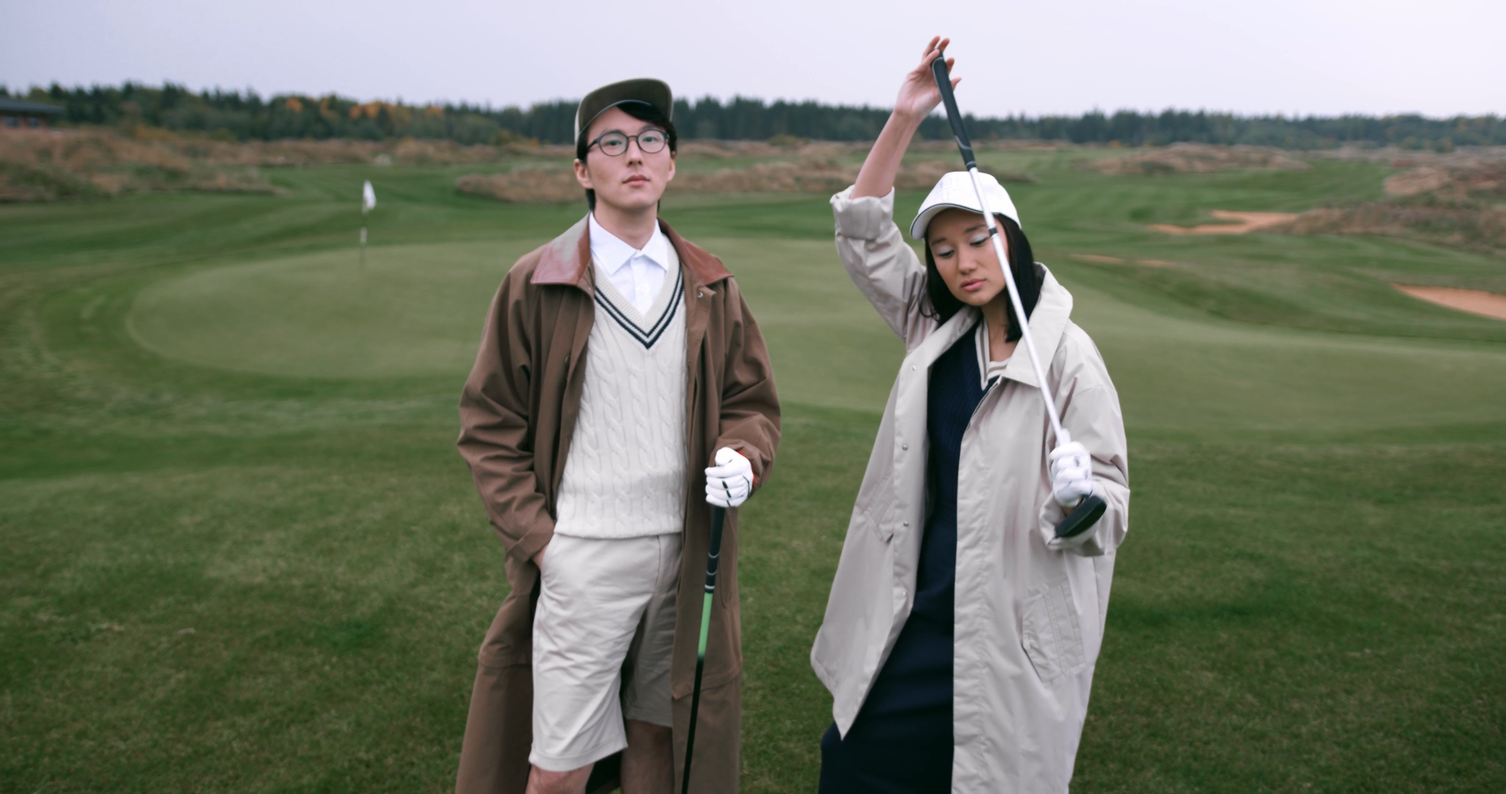No-gloves: (877, 22, 984, 147)
gloves: (1029, 432, 1123, 520), (689, 437, 772, 517)
